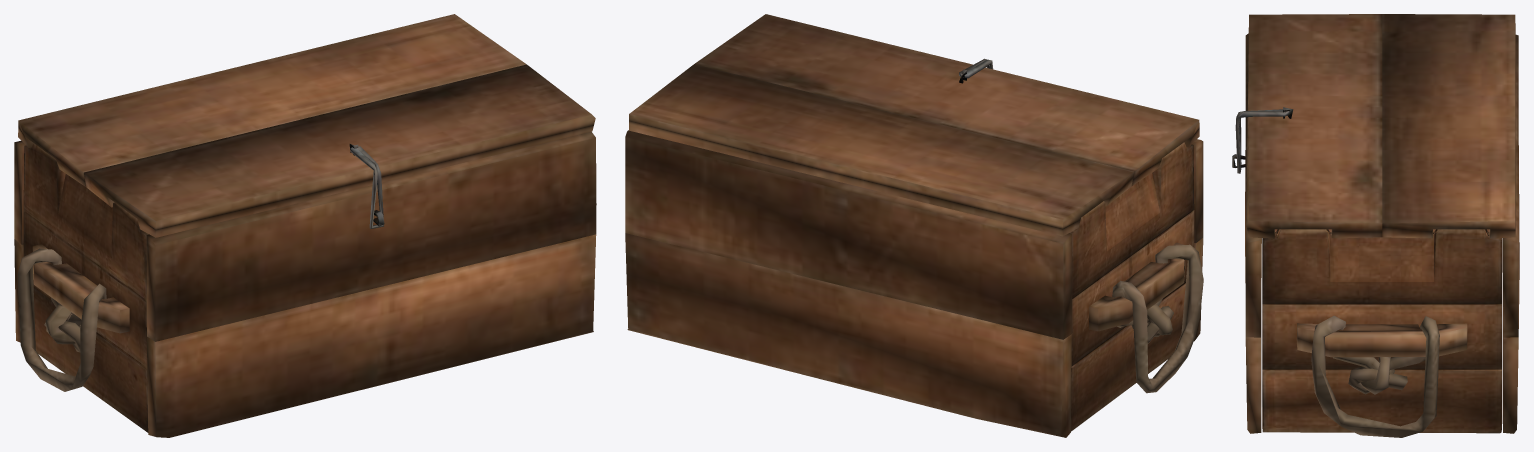
The model's file is wooden_crate_01.gltf.
3 views of the same model, side by side, from view 1: azimuth 30°, elevation 25°; view 2: azimuth 150°, elevation 25°; view 3: azimuth 270°, elevation 25° (orthographic). The views are drawn at different scales.
Parts seen in each view (by area): view 1: wooden_crate_01, wooden_crate_01_lid, wooden_crate_01_latch; view 2: wooden_crate_01, wooden_crate_01_lid; view 3: wooden_crate_01_lid, wooden_crate_01, wooden_crate_01_latch.
Boxes of the visible parts, x1,y1,x2,y2 form: wooden_crate_01: (14, 131, 596, 437); wooden_crate_01_lid: (18, 14, 595, 237); wooden_crate_01_latch: (350, 146, 383, 228); wooden_crate_01: (625, 130, 1203, 437); wooden_crate_01_lid: (629, 14, 1199, 236); wooden_crate_01_lid: (1246, 14, 1515, 238); wooden_crate_01: (1232, 33, 1519, 437); wooden_crate_01_latch: (1235, 109, 1289, 173).
Size of the model in its own units: 0.8245 by 0.3469 by 0.4056.
1 material, 1 textured.
